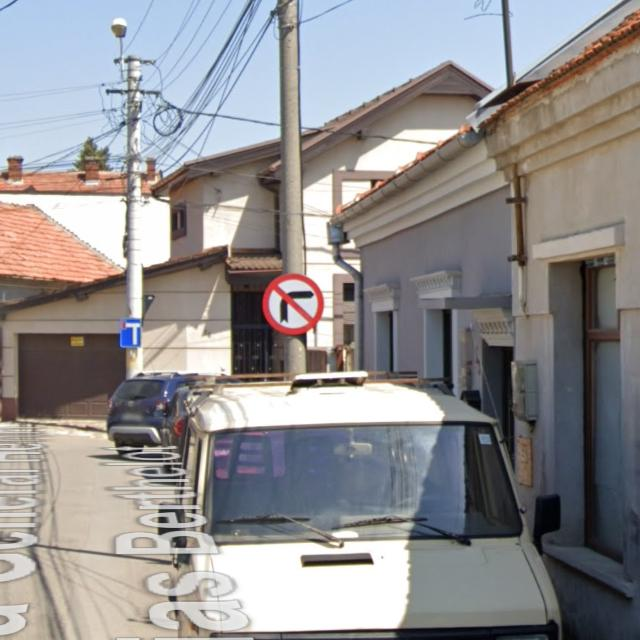forb_right: (262, 273, 324, 333)
